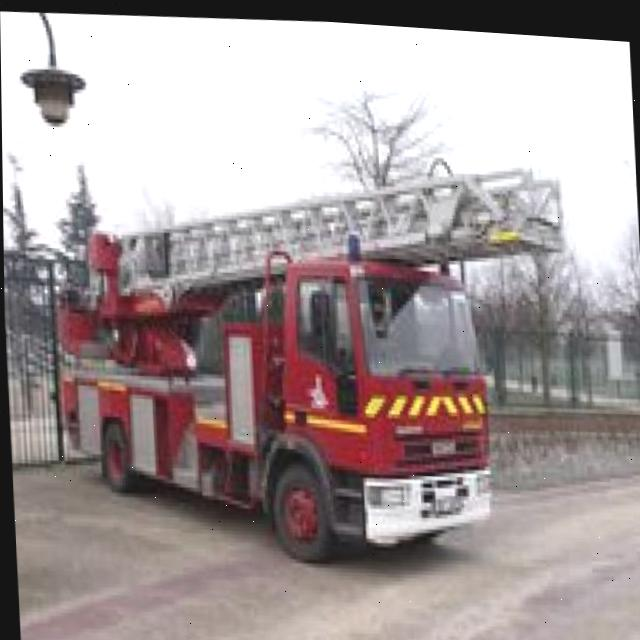emergency: (39, 131, 578, 573)
